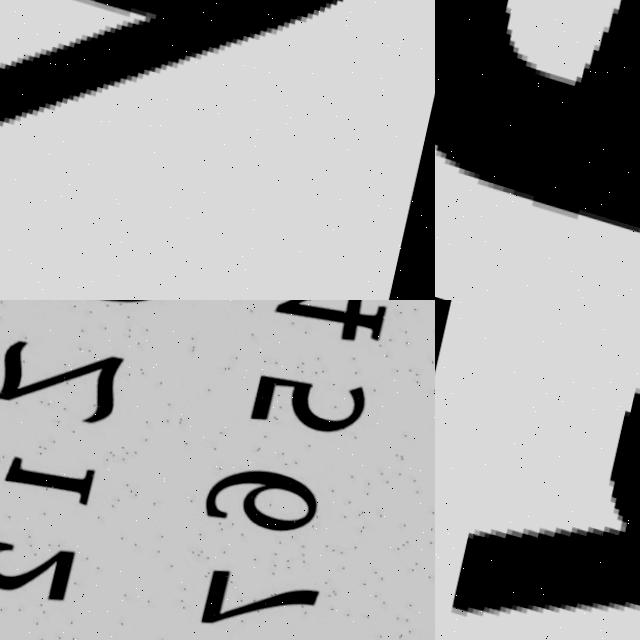1: (0, 434, 104, 517)
2: (0, 515, 90, 613)
4: (258, 300, 403, 349)
5: (233, 341, 378, 451)
6: (182, 438, 331, 548)
7: (177, 539, 328, 640)
A: (435, 0, 640, 300)
D: (440, 300, 640, 640)
Y: (0, 0, 425, 300)
